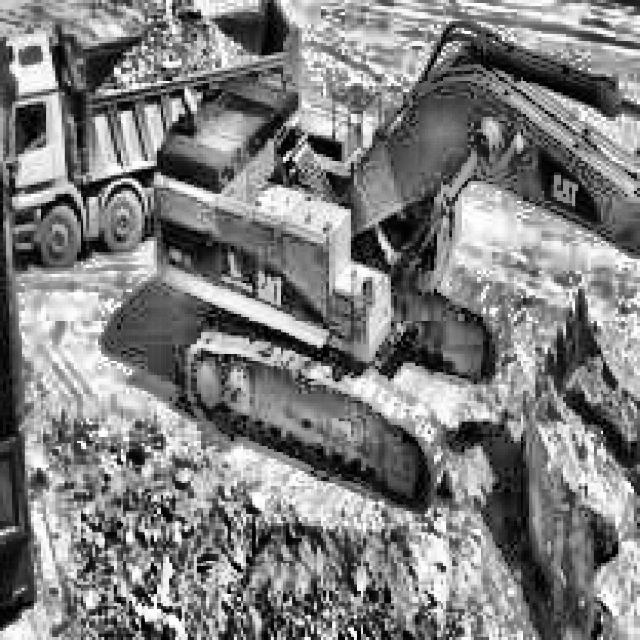dump_truck: (0, 28, 163, 264), (0, 126, 43, 640)
excavator: (144, 0, 640, 600)
